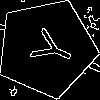Y: (21, 23, 77, 72)
